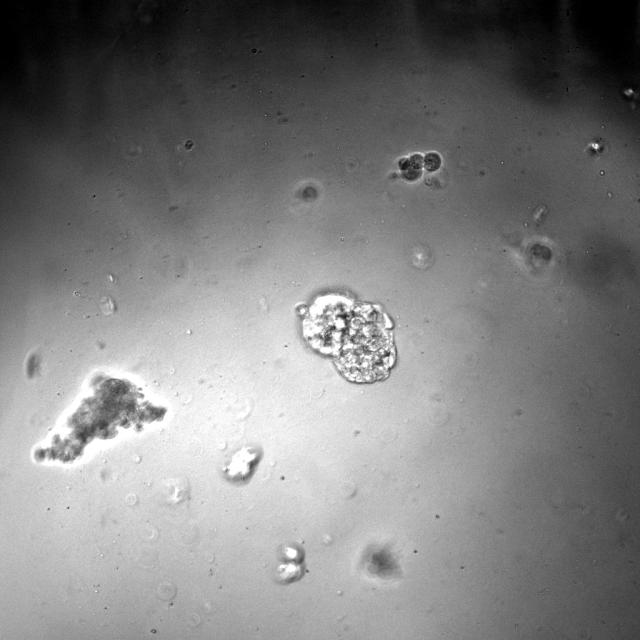organoid: (31, 369, 169, 467), (296, 292, 396, 383), (356, 543, 402, 581), (222, 445, 261, 482), (272, 542, 306, 584), (398, 151, 442, 181), (520, 240, 552, 273), (586, 137, 607, 155), (299, 183, 318, 202)
